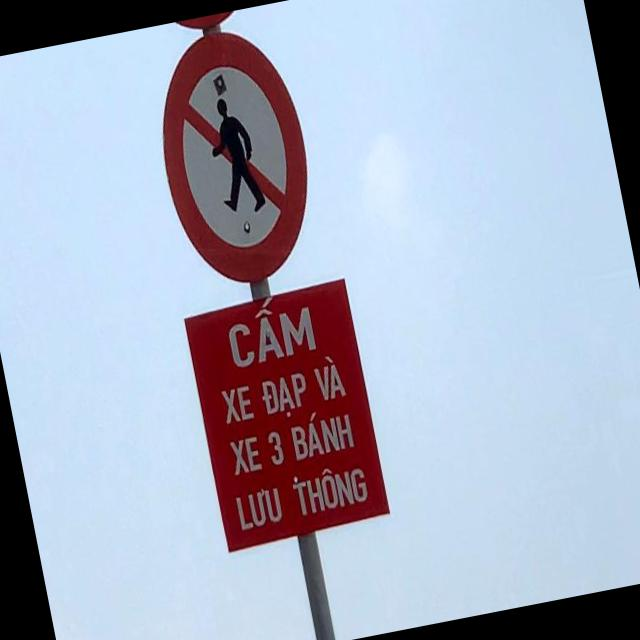P-112: (144, 21, 328, 294)
